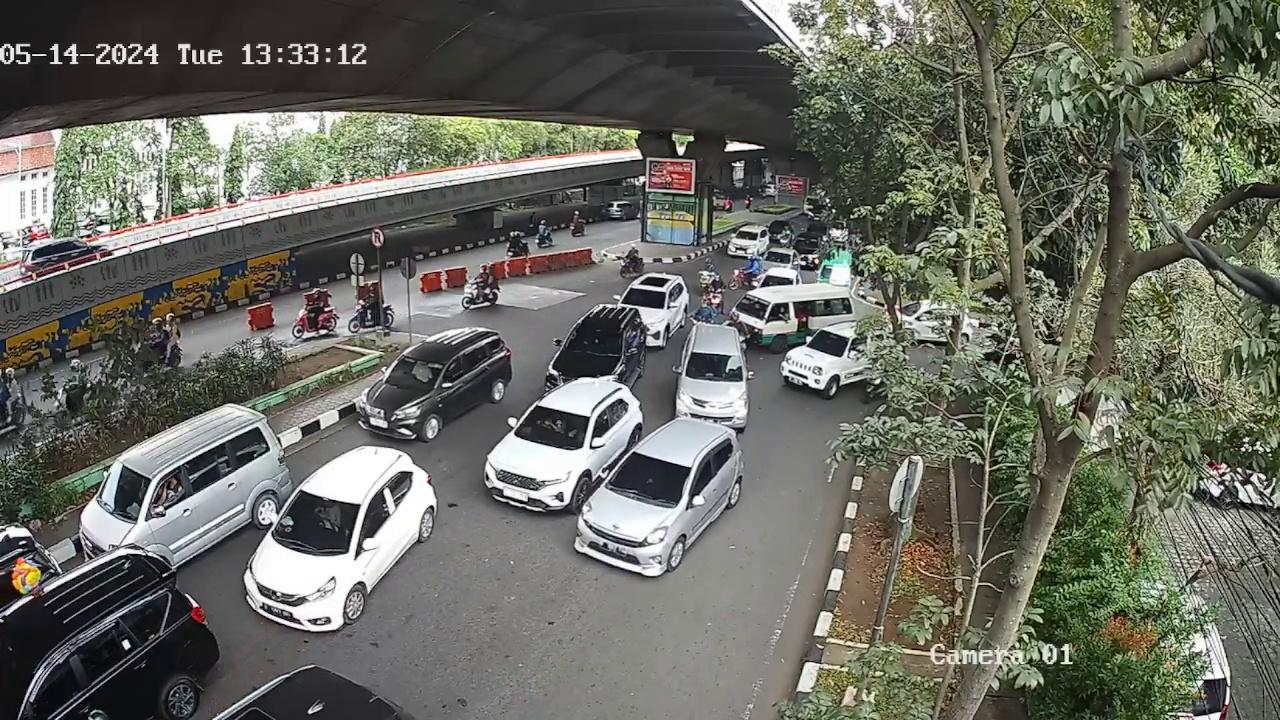tidak-pakai: (410, 360, 433, 382)
windshield: (274, 489, 358, 549), (603, 449, 692, 504), (94, 457, 149, 520), (515, 407, 589, 448), (383, 355, 447, 393), (560, 326, 624, 359), (683, 352, 743, 380)
